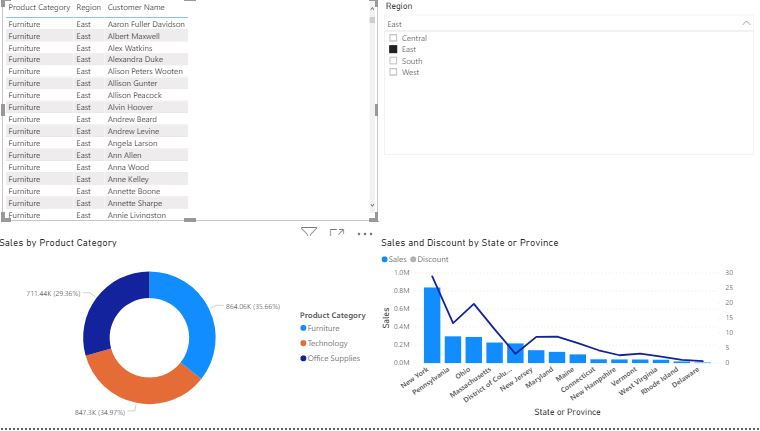

The page's visual inventory and layout, read from the dashboard file:
{"tool":"powerbi","page":{"name":"Page 1","canvas":[1280,720],"ordinal":0},"visuals":[{"type":"tableEx","fields":{"Values":["Orders.Product Category","Orders.Region","Orders.Customer Name"]},"box":[10.1,0,629.9,373.6],"z":0},{"type":"donutChart","fields":{"Category":["Orders.Product Category"],"Y":["Orders.Sales"]},"box":[0,398.7,640,321.7],"z":1000},{"type":"slicer","fields":{"Values":["Orders.Region"]},"box":[640,0,640,373.6],"z":2000},{"type":"lineClusteredColumnComboChart","fields":{"Category":["Orders.State or Province"],"Y":["Orders.Sales"],"Y2":["Orders.Discount"]},"box":[640,398.7,599.8,308.3],"z":2001}]}

Visuals, with their boxes in screenshot pixels (x1, y1, x2, y2), scaled from the page's 1280x720 canvas onto the 760x431 screenshot:
tableEx - Orders.Product Category x Orders.Region: 6/0/380/224
donutChart - Orders.Product Category x Orders.Sales: 0/239/380/430
slicer - Orders.Region: 380/0/759/224
lineClusteredColumnComboChart - Orders.State or Province x Orders.Sales: 380/239/736/423
